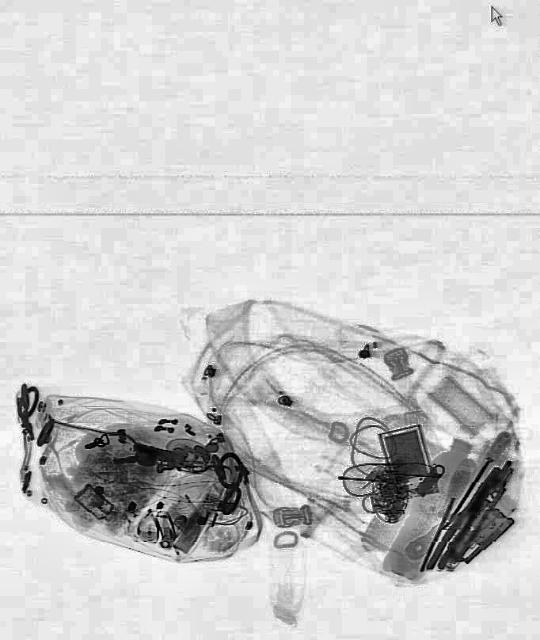Pliers: (423, 459, 503, 576)
